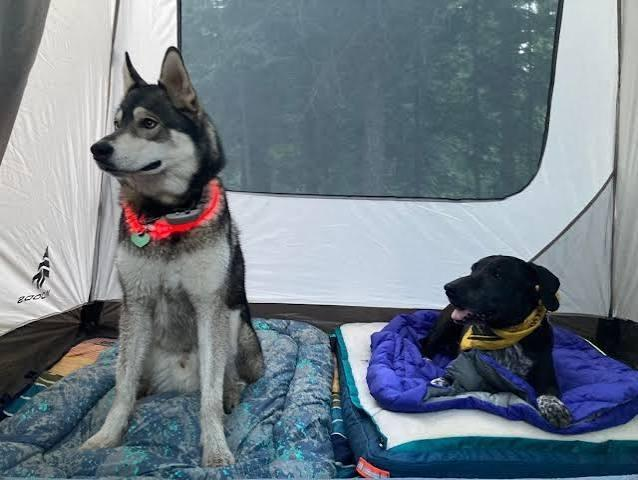adult_dog: (82, 47, 266, 465), (420, 254, 572, 429)
